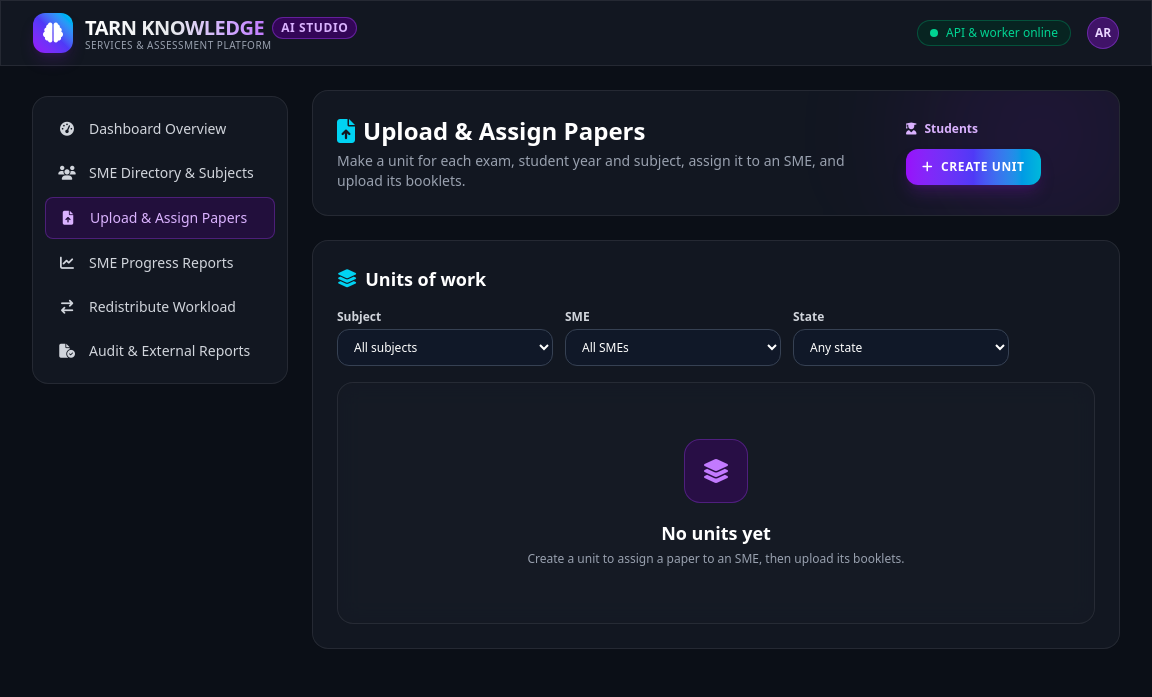
Test case: admin portal shell › reaches the roster from Upload & Assign Papers and keeps that item highlighted
Click the link "Students" at (942, 129), box [906,121,978,137]
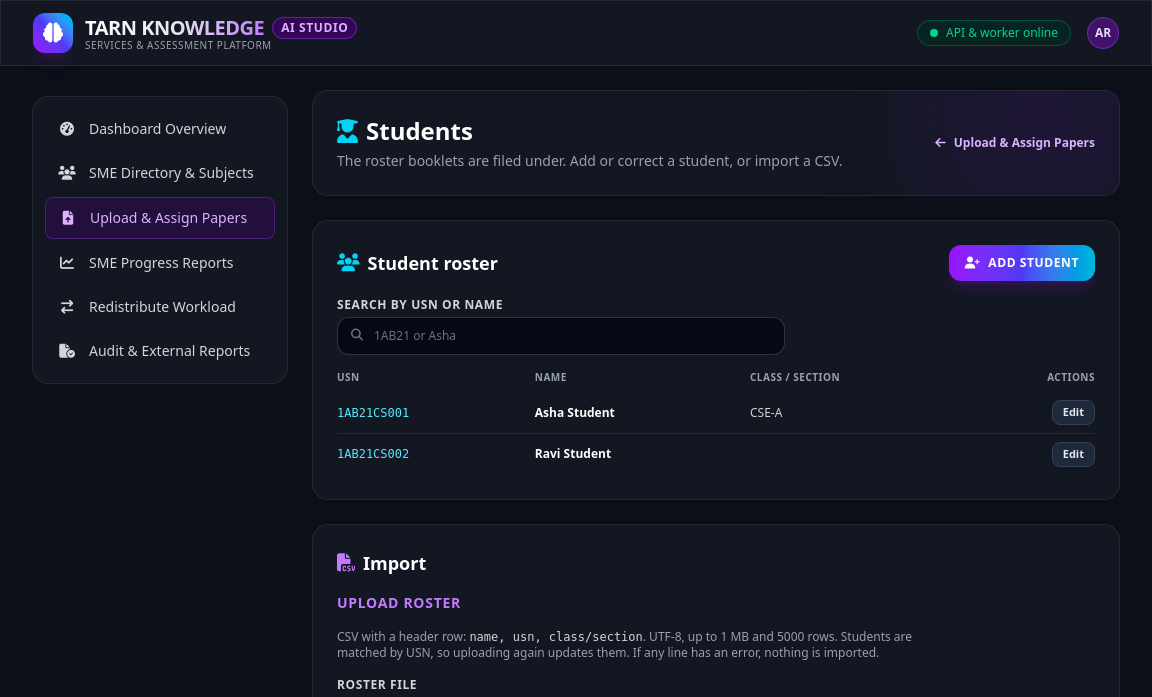
Expected: the heading "Students" is shown, [337,114,473,147]
